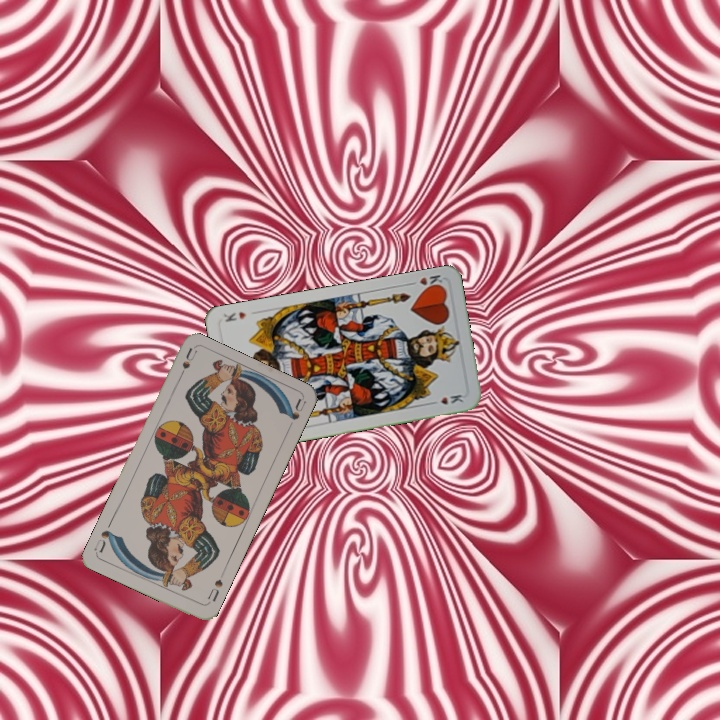HK: (405, 271, 445, 293)
SU: (173, 345, 199, 385), (203, 568, 227, 607)
